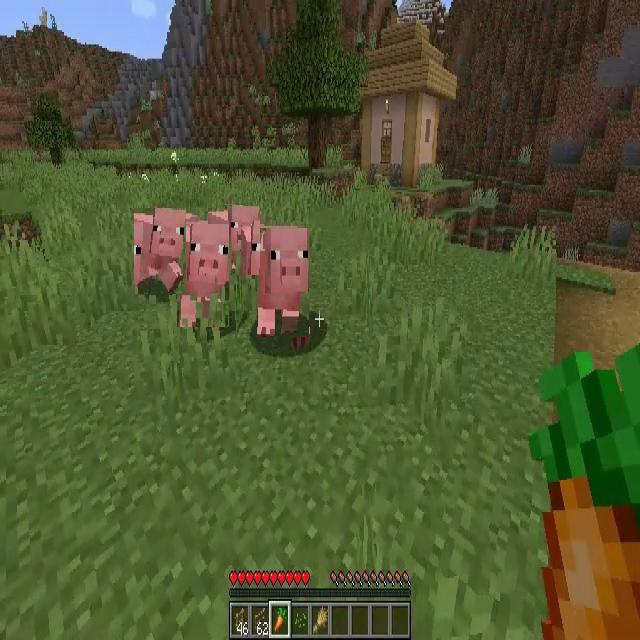pig: (258, 228, 310, 337), (178, 224, 230, 327), (134, 208, 186, 294), (208, 205, 260, 275)
